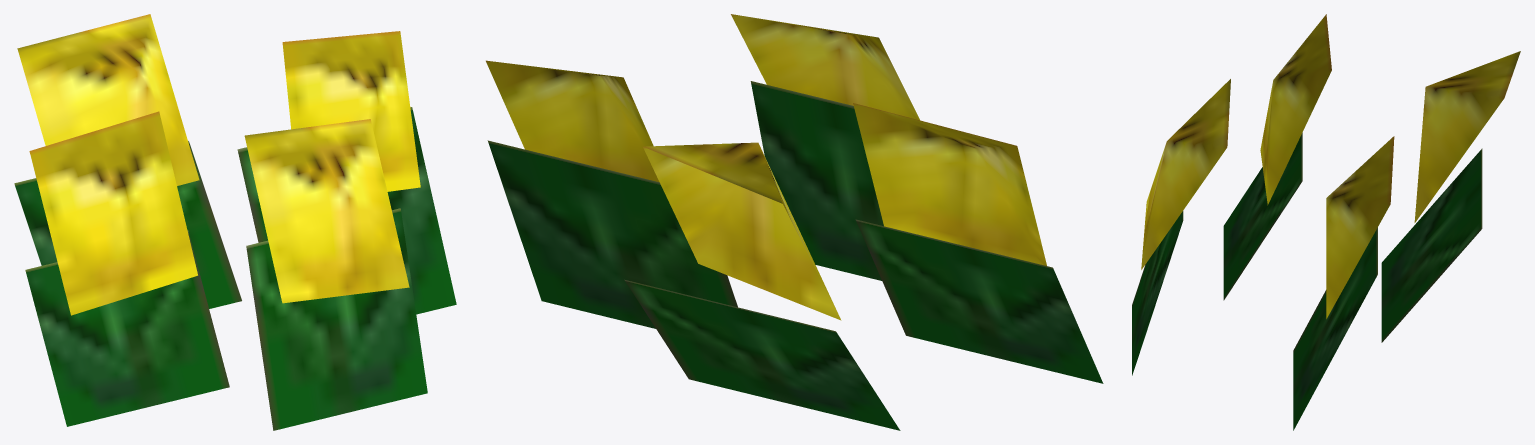
File: flw_tulip_ye.dae
The picture shows the model from 3 angles, left to right: view 1: azimuth 30°, elevation 25°; view 2: azimuth 150°, elevation 25°; view 3: azimuth 270°, elevation 25°; orthographic projection. The views are drawn at different scales.
Visible parts, largest first — view 1: flw_tulip_ye; view 2: flw_tulip_ye; view 3: flw_tulip_ye.
Boxes of the visible parts, left/top/right/bottom form: flw_tulip_ye: left=14, top=14, right=456, bottom=430; flw_tulip_ye: left=486, top=14, right=1103, bottom=430; flw_tulip_ye: left=1132, top=14, right=1520, bottom=430.
Bounding box in the file's own units: 30.95 × 17.79 × 25.83.
Materials: 1 (1 with a texture image).
